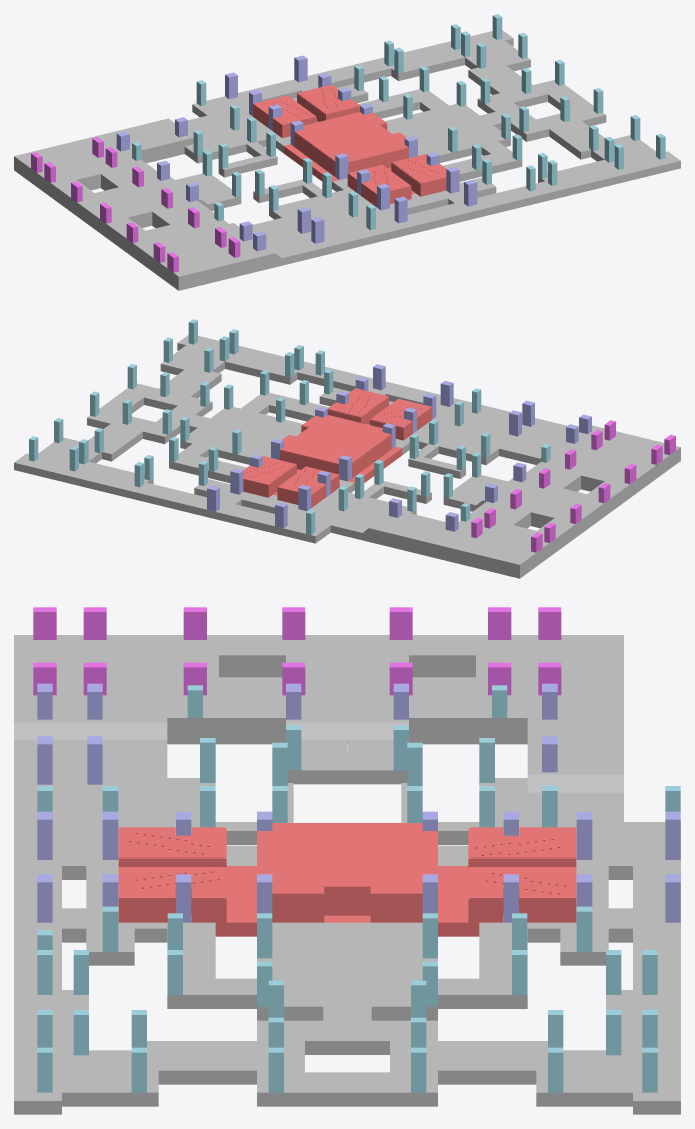
File: GPLT.glb
3 renders of one model, top to bottom at view 1: azimuth 30°, elevation 25°; view 2: azimuth 150°, elevation 25°; view 3: azimuth 270°, elevation 25°, orthographic. The views are drawn at different scales.
Visible parts, largest first — view 1: PolyFace_Mesh105, PolyFace_Mesh128, PolyFace_Mesh059, PolyFace_Mesh137, PolyFace_Mesh051, PolyFace_Mesh058, PolyFace_Mesh057, PolyFace_Mesh052, PolyFace_Mesh141, PolyFace_Mesh142, PolyFace_Mesh156, PolyFace_Mesh112 (+29 smaller); view 2: PolyFace_Mesh105, PolyFace_Mesh137, PolyFace_Mesh059, PolyFace_Mesh128, PolyFace_Mesh058, PolyFace_Mesh051, PolyFace_Mesh057, PolyFace_Mesh052, PolyFace_Mesh109, PolyFace_Mesh142, PolyFace_Mesh129, PolyFace_Mesh141 (+32 smaller); view 3: PolyFace_Mesh105, PolyFace_Mesh059, PolyFace_Mesh128, PolyFace_Mesh137, PolyFace_Mesh112, PolyFace_Mesh051, PolyFace_Mesh058, PolyFace_Mesh136, PolyFace_Mesh139, PolyFace_Mesh052, PolyFace_Mesh057, PolyFace_Mesh121 (+58 smaller).
Part boxes in pixels (<box>): PolyFace_Mesh105: <box>14,119,270,283</box>; PolyFace_Mesh128: <box>165,151,680,290</box>; PolyFace_Mesh059: <box>294,112,408,176</box>; PolyFace_Mesh137: <box>192,30,513,117</box>; PolyFace_Mesh051: <box>391,154,446,196</box>; PolyFace_Mesh058: <box>297,84,359,121</box>; PolyFace_Mesh057: <box>253,95,316,138</box>; PolyFace_Mesh052: <box>347,164,411,207</box>; PolyFace_Mesh141: <box>513,105,606,141</box>; PolyFace_Mesh142: <box>477,80,569,113</box>; PolyFace_Mesh156: <box>27,172,165,280</box>; PolyFace_Mesh112: <box>390,117,474,147</box>; PolyFace_Mesh105: <box>373,425,680,571</box>; PolyFace_Mesh137: <box>14,453,328,543</box>; PolyFace_Mesh059: <box>280,415,391,477</box>; PolyFace_Mesh128: <box>177,335,680,469</box>; PolyFace_Mesh058: <box>243,456,296,497</box>; PolyFace_Mesh051: <box>327,388,389,424</box>; PolyFace_Mesh057: <box>277,466,339,507</box>; PolyFace_Mesh052: <box>369,399,432,440</box>; PolyFace_Mesh109: <box>452,427,551,464</box>; PolyFace_Mesh142: <box>87,408,177,443</box>; PolyFace_Mesh129: <box>464,416,565,448</box>; PolyFace_Mesh141: <box>122,383,212,416</box>; PolyFace_Mesh105: <box>14,635,623,770</box>; PolyFace_Mesh059: <box>257,823,437,922</box>; PolyFace_Mesh128: <box>14,740,61,1114</box>; PolyFace_Mesh137: <box>633,822,680,1114</box>; PolyFace_Mesh112: <box>305,922,389,986</box>; PolyFace_Mesh051: <box>118,867,226,922</box>; PolyFace_Mesh058: <box>468,867,576,922</box>; PolyFace_Mesh136: <box>62,1050,256,1084</box>; PolyFace_Mesh139: <box>438,1050,632,1084</box>; PolyFace_Mesh052: <box>118,827,226,868</box>; PolyFace_Mesh057: <box>468,827,576,868</box>; PolyFace_Mesh121: <box>257,986,437,1020</box>.
Size of the model in its own units: 1.39 by 0.0775 by 0.8655.
